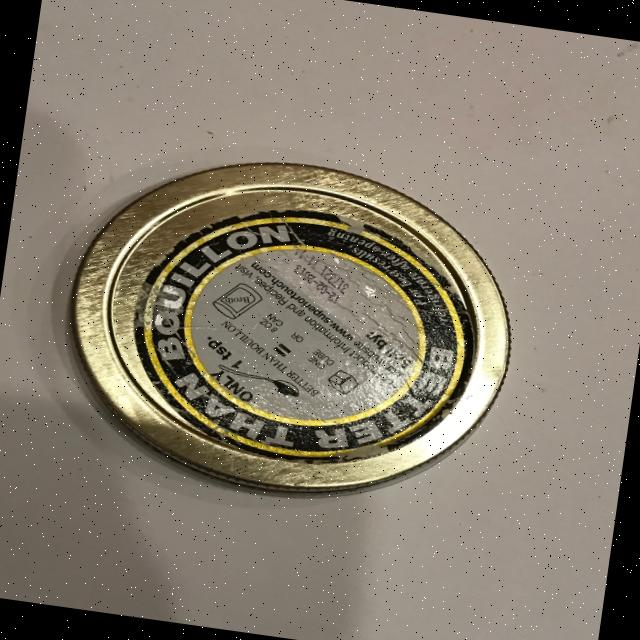metal: (47, 133, 534, 524)
